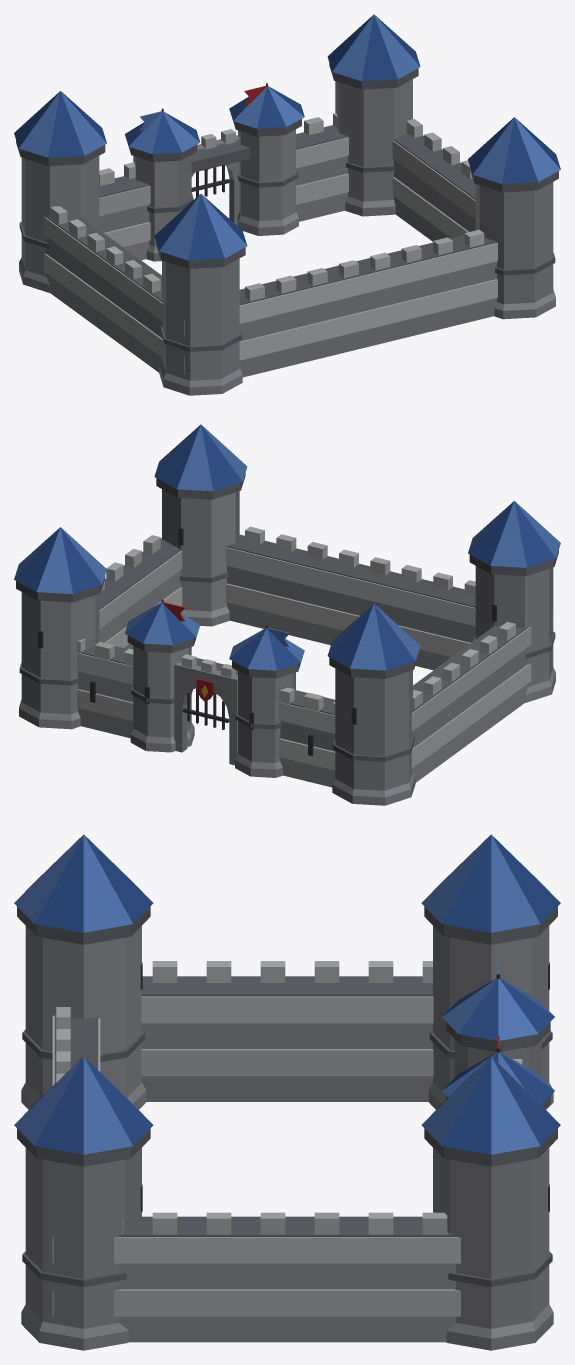
The model's file is Decor_KnightCastle_Walls.fbx.
The picture shows the model from 3 angles, top to bottom: view 1: azimuth 30°, elevation 25°; view 2: azimuth 150°, elevation 25°; view 3: azimuth 270°, elevation 25°; orthographic projection. The views are drawn at different scales.
Visible parts, largest first — view 1: Walls_Body; view 2: Walls_Body; view 3: Walls_Body.
Part boxes in pixels (x1,y1,x2,y2): Walls_Body: (14,14,560,395); Walls_Body: (14,424,560,805); Walls_Body: (14,834,560,1350).
Size of the model in its own units: 45 by 20 by 37.
